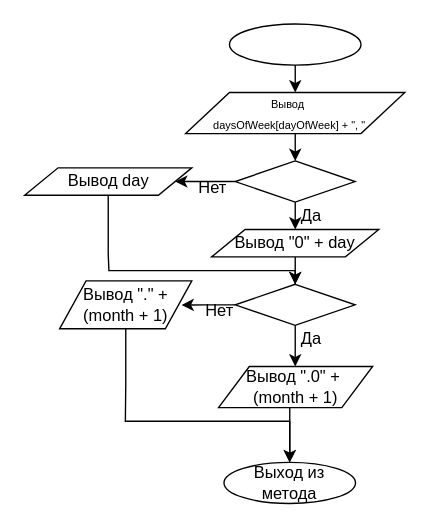
Some shapes in this 429 by 527 pixel diagram are drawn without their labels. The centre of each missing label's shape, as x and y in pixels:
"day < 10" belongs at (294,181).
"month < 9" belongs at (294,304).
"Print()" belongs at (294,44).
